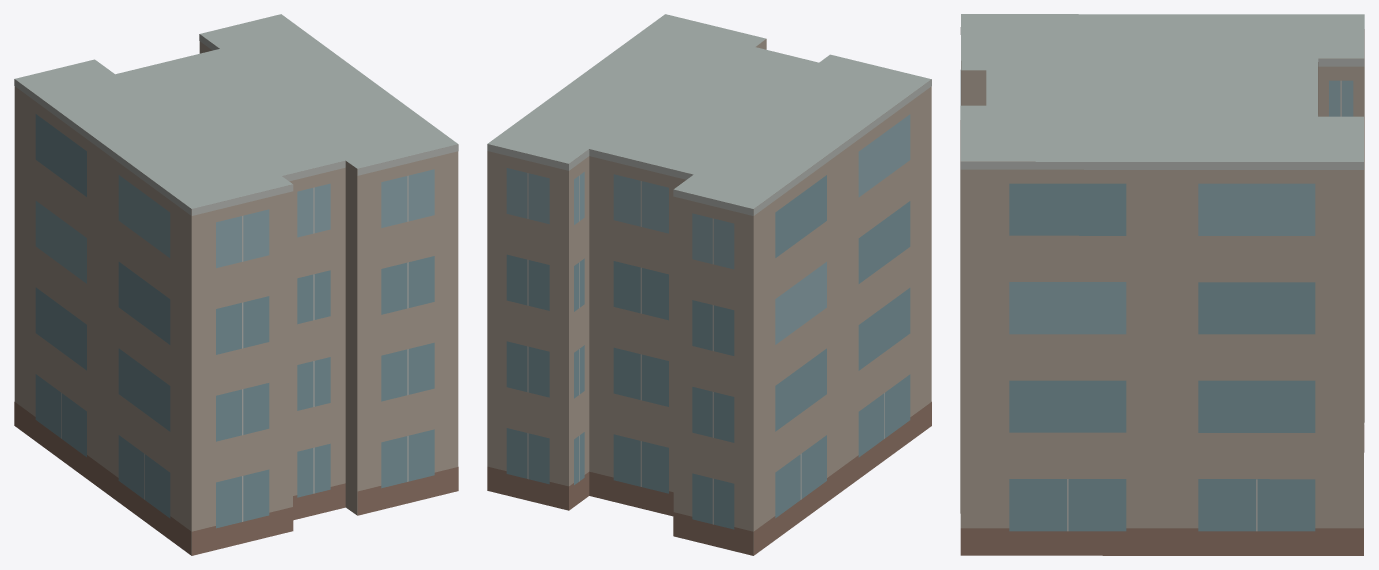
File: survey-upis-32701347.glb
3 views of the same model, side by side, from view 1: azimuth 30°, elevation 25°; view 2: azimuth 150°, elevation 25°; view 3: azimuth 270°, elevation 25° (orthographic). The views are drawn at different scales.
Parts seen in each view (by area): view 1: survey-upis-32701347.tmp; view 2: survey-upis-32701347.tmp; view 3: survey-upis-32701347.tmp.
Boxes of the visible parts, x1,y1,x2,y2 form: survey-upis-32701347.tmp: (14, 14, 458, 555); survey-upis-32701347.tmp: (487, 14, 931, 555); survey-upis-32701347.tmp: (960, 14, 1364, 555).
Size of the model in its own units: 9.68 by 12 by 11.17.
